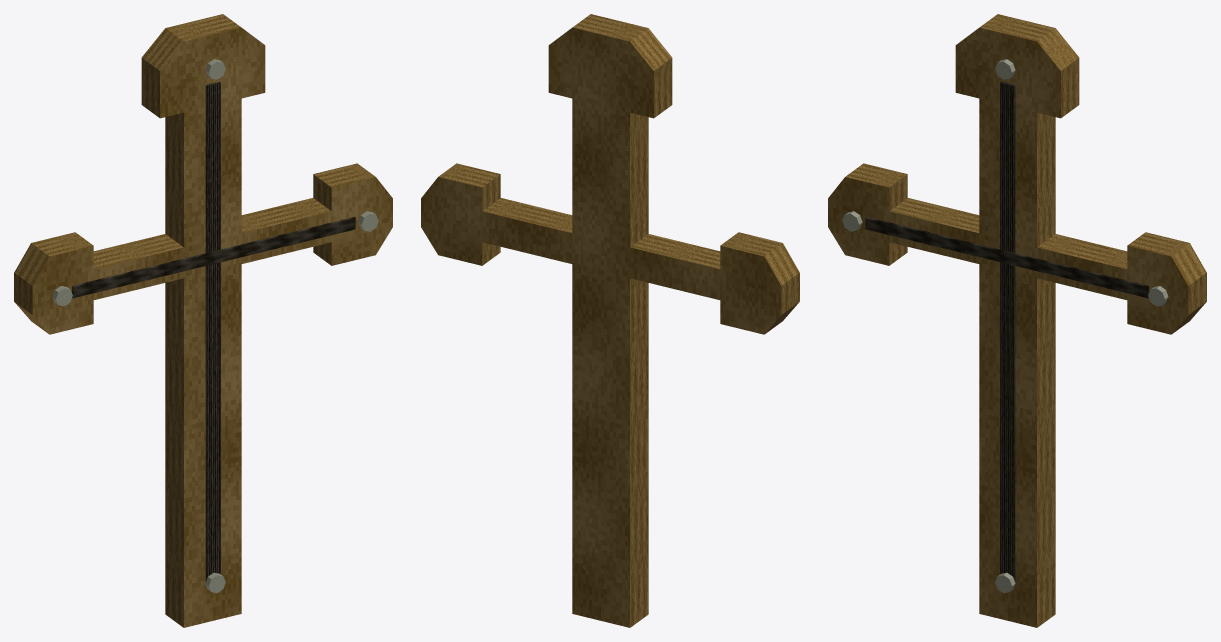
Rendered from blender_crucifix_3.glb.
3 renders of one model, left to right at view 1: azimuth 30°, elevation 25°; view 2: azimuth 150°, elevation 25°; view 3: azimuth 330°, elevation 25°, orthographic.
Parts seen in each view (by area): view 1: blender_crucifix_3; view 2: blender_crucifix_3; view 3: blender_crucifix_3.
Boxes of the visible parts, left/top/right/bottom form: blender_crucifix_3: left=14, top=14, right=392, bottom=627; blender_crucifix_3: left=421, top=14, right=799, bottom=627; blender_crucifix_3: left=828, top=14, right=1206, bottom=627.
Size of the model in its own units: 0.18 by 0.28 by 0.02.
Materials: 3 (3 with a texture image).
